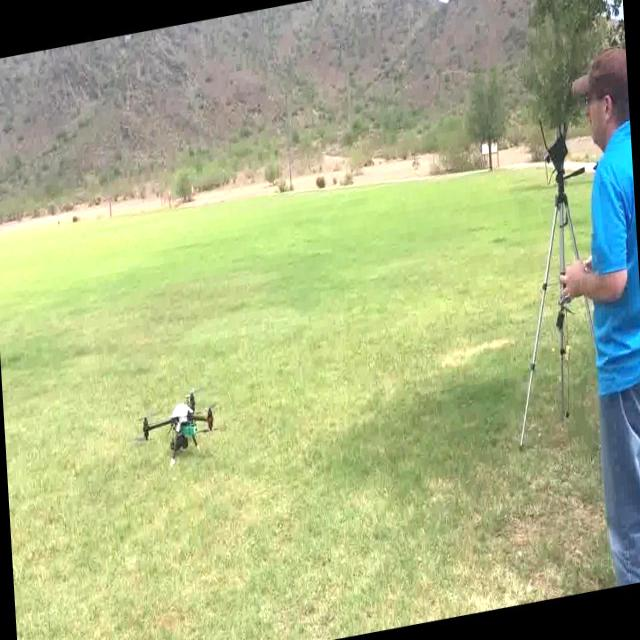drone: (142, 383, 220, 474)
